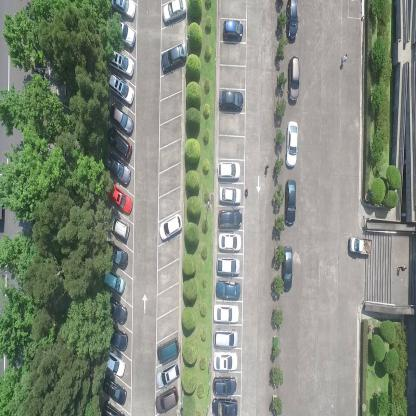car: (103, 153, 131, 188), (108, 72, 135, 107), (107, 182, 133, 217), (160, 42, 187, 74), (108, 103, 134, 136), (106, 128, 132, 161), (155, 359, 181, 389), (104, 294, 128, 326), (102, 376, 127, 406), (112, 18, 136, 49), (108, 49, 134, 77), (159, 211, 182, 242), (102, 349, 126, 378), (157, 334, 180, 364), (155, 385, 178, 415), (105, 322, 128, 352), (218, 89, 245, 114), (161, 0, 188, 25), (106, 213, 130, 241), (106, 242, 129, 271), (285, 120, 298, 169), (287, 54, 299, 107), (104, 268, 126, 296), (285, 0, 299, 43), (211, 327, 239, 348), (285, 177, 296, 229), (214, 279, 241, 300), (213, 303, 240, 324), (349, 234, 372, 258), (222, 18, 244, 43), (281, 244, 292, 293), (217, 160, 241, 182), (218, 231, 242, 253), (213, 352, 239, 371), (110, 0, 136, 19), (211, 397, 238, 415), (218, 208, 242, 228), (212, 375, 236, 395), (100, 398, 126, 416), (218, 186, 242, 205), (216, 256, 240, 275)
